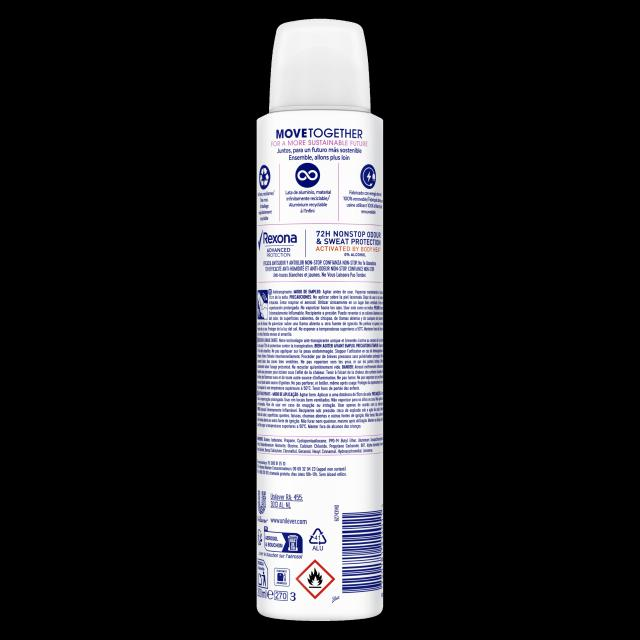GHS_Symbol_FLAME: (296, 559, 335, 599)
